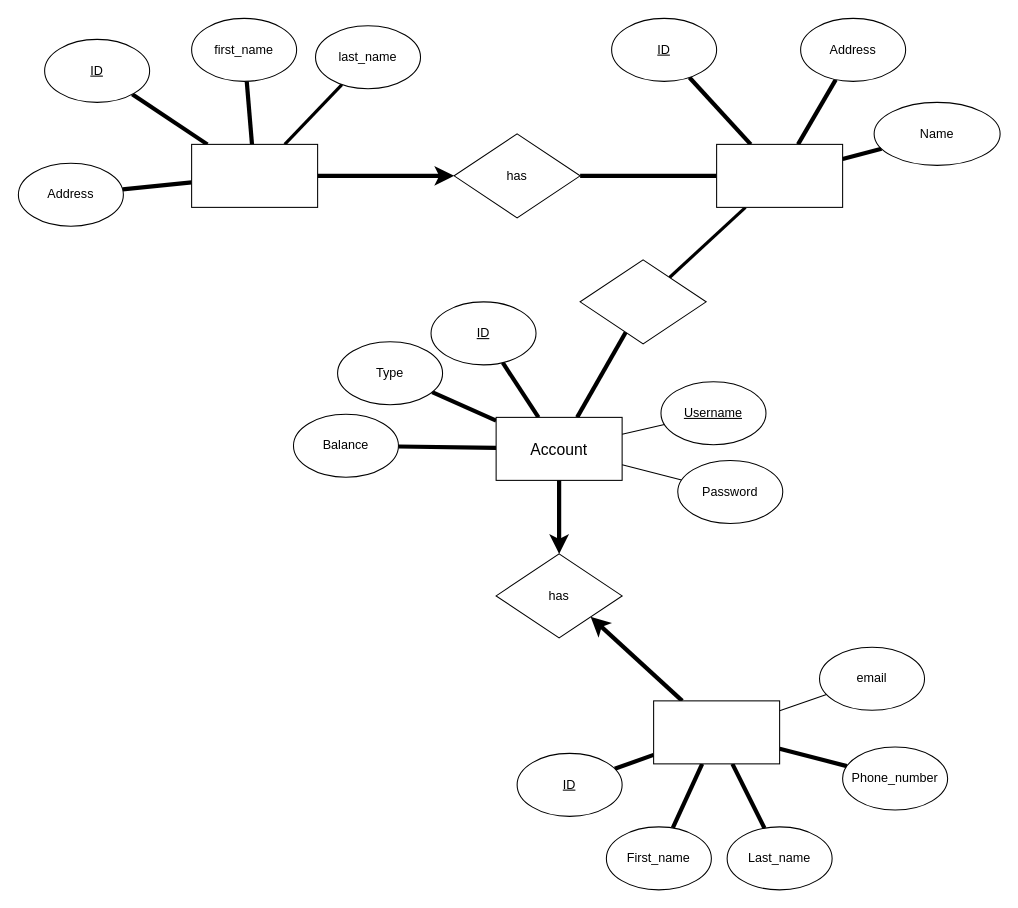
This 1018x908 diagram has some shape labels left out. The centre of each missing label's shape, as x and y in pixels:
Banker: the point at 254,175
Branch: the point at 779,175
Customer: the point at 716,732
maintains: the point at 642,301
